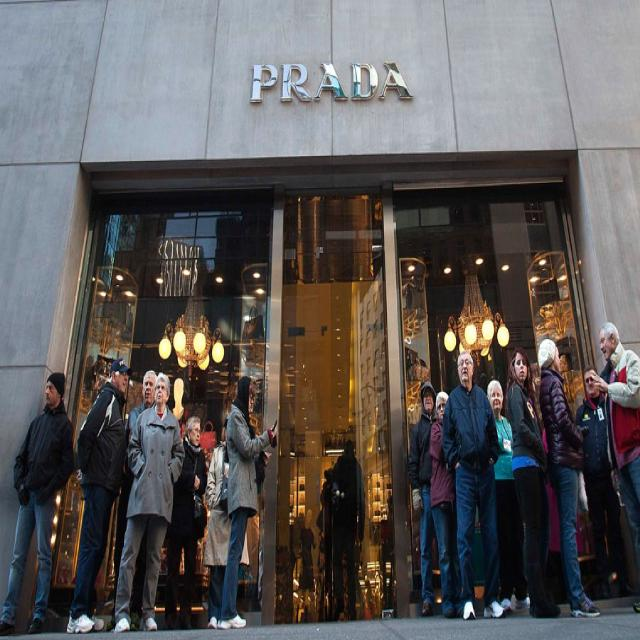body: (0, 370, 76, 638), (114, 370, 186, 632), (440, 349, 509, 621), (65, 355, 132, 635), (536, 338, 602, 618), (505, 346, 563, 622), (218, 372, 278, 630), (574, 362, 638, 601), (588, 320, 639, 616), (112, 368, 158, 613), (486, 378, 532, 614), (163, 415, 209, 633), (203, 425, 250, 631), (428, 391, 466, 619), (328, 438, 367, 622), (408, 379, 437, 618), (538, 413, 582, 555), (315, 464, 345, 620), (294, 506, 317, 619)
